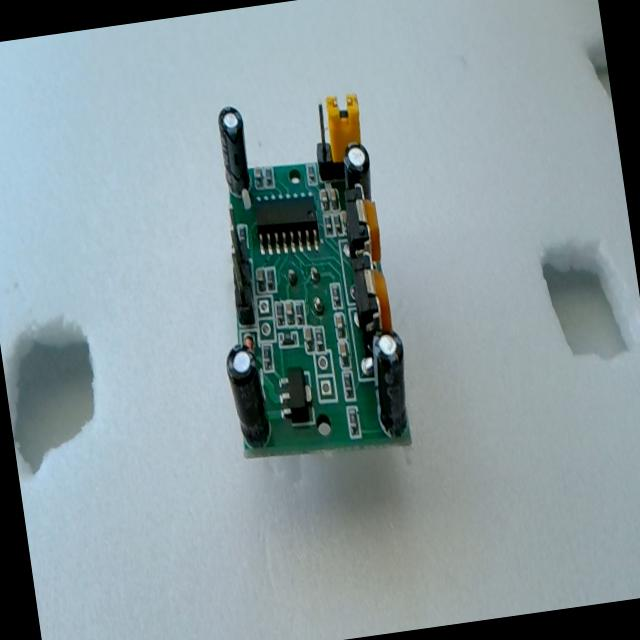Electrolytic capacitor: (366, 328, 416, 440), (223, 343, 273, 452), (216, 103, 254, 200), (340, 140, 376, 202)
IC: (253, 191, 322, 257)
pinheader: (224, 226, 259, 326)
